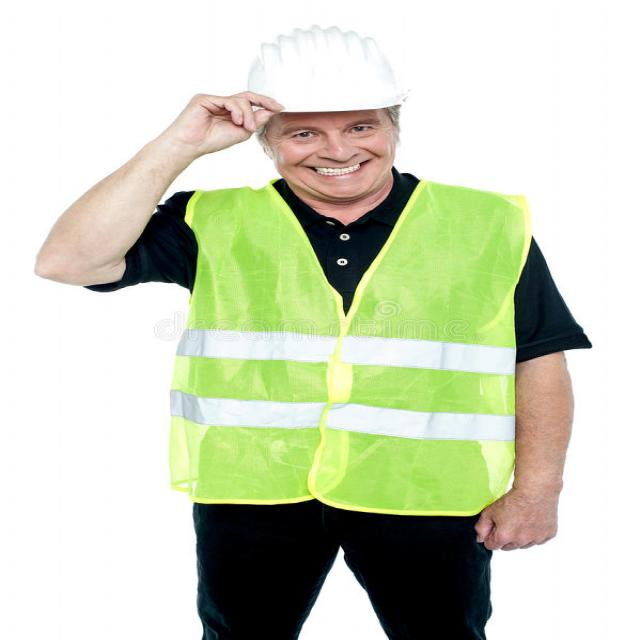Reflective-Jacket: (162, 178, 536, 516)
Safety-Helmet: (240, 20, 421, 117)
